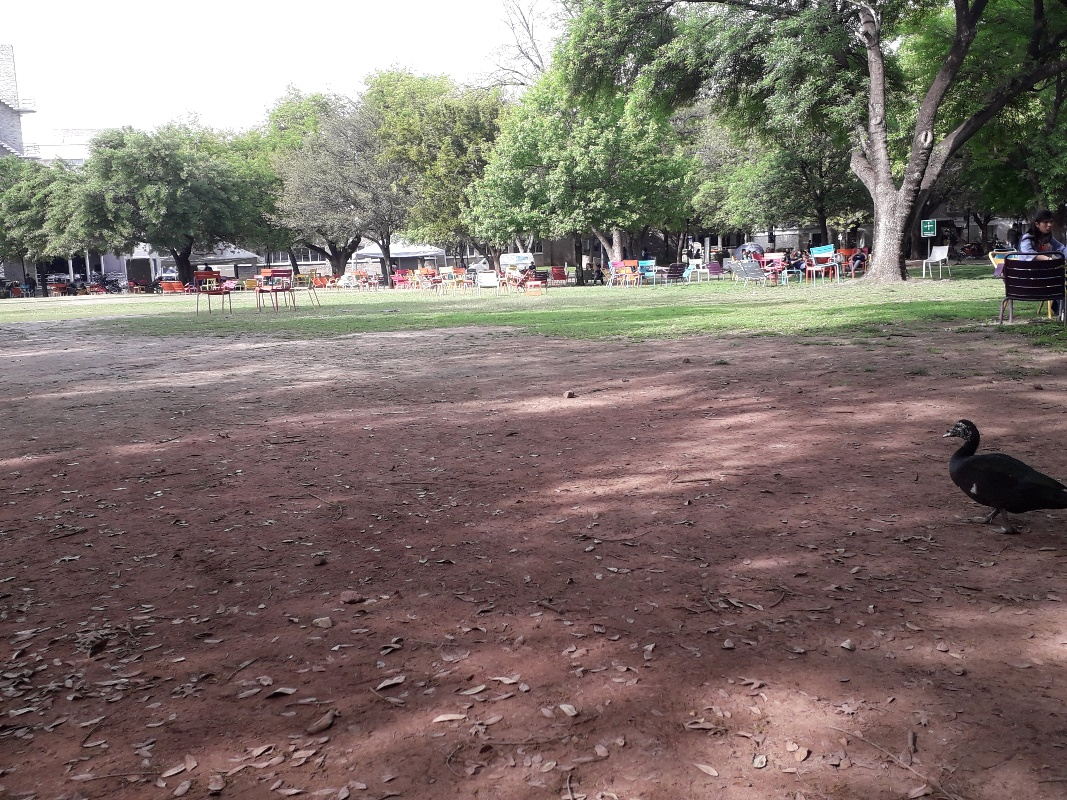pato: (941, 422, 1066, 534)
